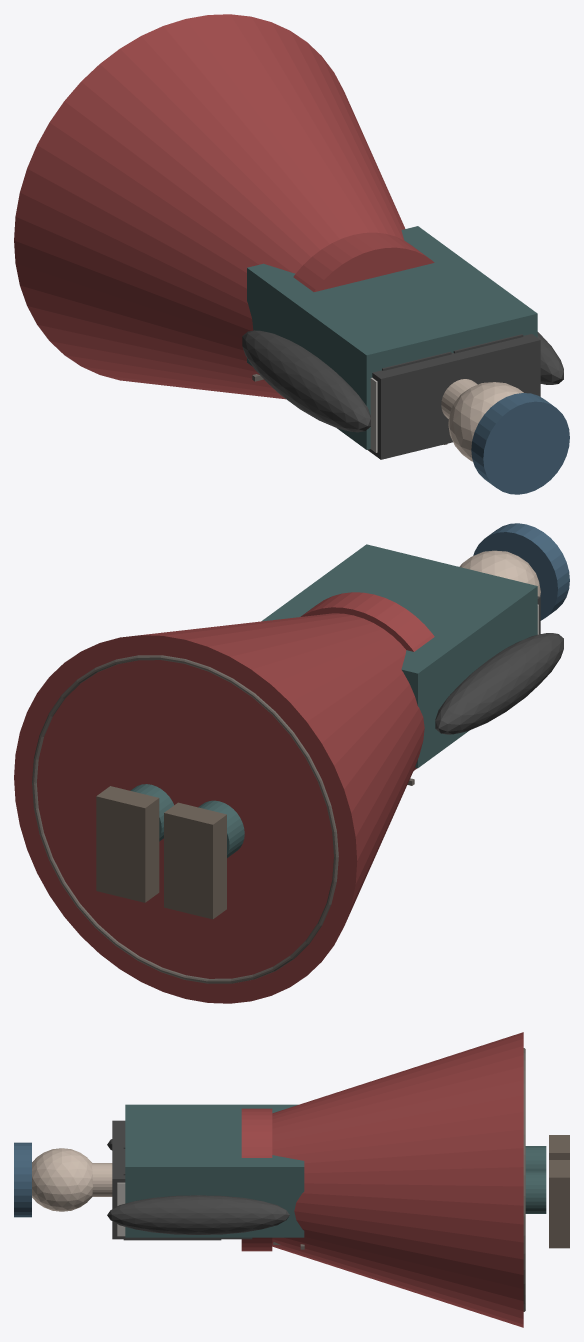
The model's file is MASTER_134_STAGE3_DETAIL.glb.
3 renders of one model, top to bottom at view 1: azimuth 30°, elevation 25°; view 2: azimuth 150°, elevation 25°; view 3: azimuth 270°, elevation 25°, orthographic. The views are drawn at different scales.
Visible parts, largest first — view 1: slot_lower_main__fund_i_gjatë, slot_outerwear__kanaci, slot_upper_inner__këmishë, slot_headwear__mbulesë_koke, slot_upper_inner_sleeve_L, slot_waist__brez, mannequin_head, slot_upper_inner_sleeve_R, mannequin_neck; view 2: slot_lower_main__fund_i_gjatë, slot_outerwear__kanaci, slot_footwear__opinga_R, slot_footwear__opinga_L, slot_upper_inner_sleeve_L, detail_skirt_hem, slot_headwear__mbulesë_koke, slot_waist__brez, mannequin_head, slot_legwear__çorape_L, slot_legwear__çorape_R; view 3: slot_lower_main__fund_i_gjatë, slot_outerwear__kanaci, slot_upper_inner_sleeve_R, mannequin_head, slot_waist__brez, slot_footwear__opinga_R, slot_upper_inner__këmishë, slot_headwear__mbulesë_koke, slot_legwear__çorape_R, detail_skirt_hem, mannequin_neck, slot_legwear__çorape_L (+1 smaller).
Boxes of the visible parts, bbox=[...] form: slot_lower_main__fund_i_gjatë: bbox=[14, 14, 405, 399]; slot_outerwear__kanaci: bbox=[247, 226, 537, 449]; slot_upper_inner__këmishë: bbox=[367, 334, 540, 459]; slot_headwear__mbulesë_koke: bbox=[471, 393, 569, 494]; slot_upper_inner_sleeve_L: bbox=[242, 330, 370, 432]; slot_waist__brez: bbox=[293, 232, 434, 291]; mannequin_head: bbox=[448, 382, 523, 461]; slot_upper_inner_sleeve_R: bbox=[537, 332, 563, 384]; mannequin_neck: bbox=[441, 379, 477, 418]; slot_lower_main__fund_i_gjatë: bbox=[14, 613, 424, 1003]; slot_outerwear__kanaci: bbox=[262, 544, 537, 768]; slot_footwear__opinga_R: bbox=[96, 786, 159, 902]; slot_footwear__opinga_L: bbox=[164, 802, 226, 919]; slot_upper_inner_sleeve_L: bbox=[435, 633, 563, 734]; detail_skirt_hem: bbox=[32, 655, 338, 983]; slot_headwear__mbulesë_koke: bbox=[473, 523, 569, 620]; slot_waist__brez: bbox=[300, 592, 434, 770]; mannequin_head: bbox=[459, 550, 540, 596]; slot_legwear__çorape_L: bbox=[198, 800, 244, 857]; slot_legwear__çorape_R: bbox=[130, 784, 173, 841]; slot_lower_main__fund_i_gjatë: bbox=[272, 1032, 523, 1327]; slot_outerwear__kanaci: bbox=[125, 1104, 304, 1237]; slot_upper_inner_sleeve_R: bbox=[107, 1195, 289, 1234]; mannequin_head: bbox=[32, 1148, 93, 1211]; slot_waist__brez: bbox=[241, 1108, 272, 1251]; slot_footwear__opinga_R: bbox=[549, 1160, 569, 1248]; slot_upper_inner__këmishë: bbox=[112, 1120, 252, 1239]; slot_headwear__mbulesë_koke: bbox=[14, 1142, 31, 1217]; slot_legwear__çorape_R: bbox=[525, 1170, 546, 1213]; detail_skirt_hem: bbox=[523, 1048, 525, 1311]; mannequin_neck: bbox=[92, 1163, 112, 1196]; slot_legwear__çorape_L: bbox=[525, 1146, 546, 1170].
Bounding box in the file's own units: 0.9107 × 0.9107 × 1.71.
